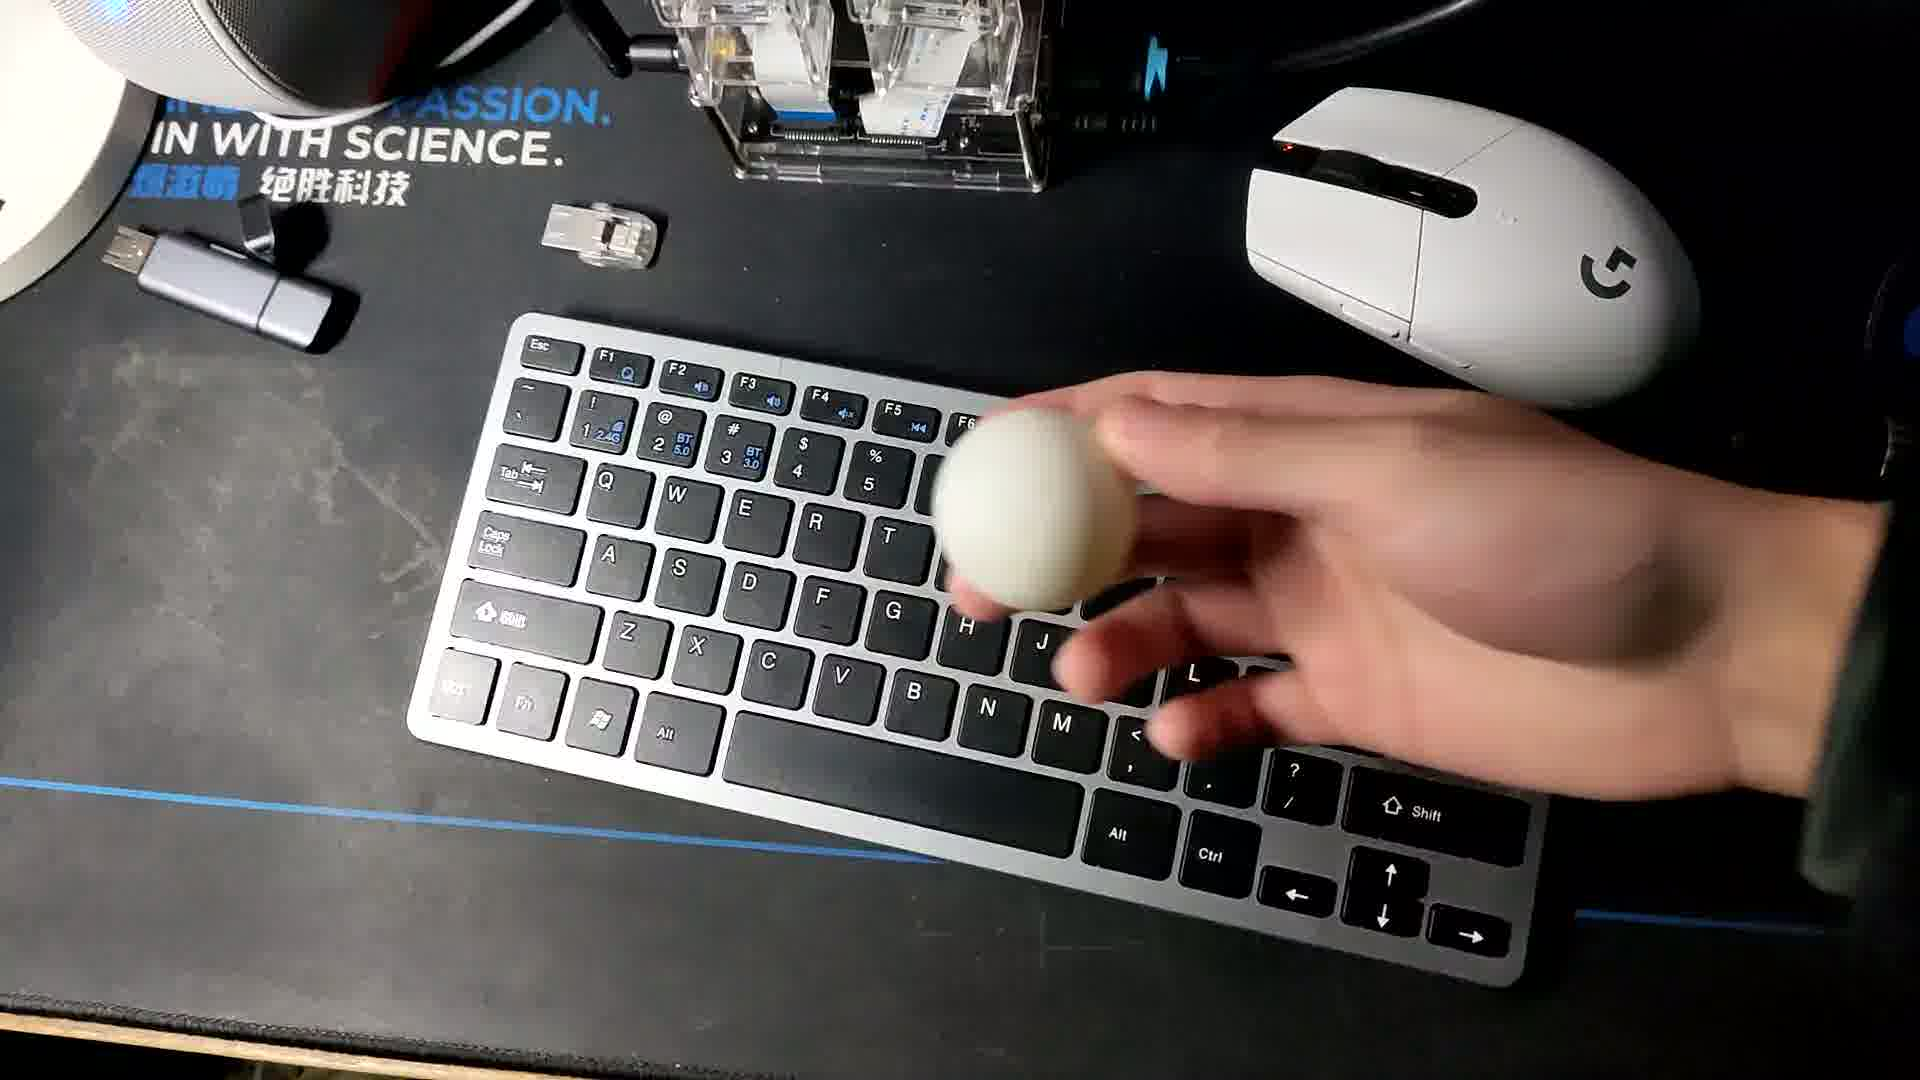Ball: (928, 411, 1129, 608)
